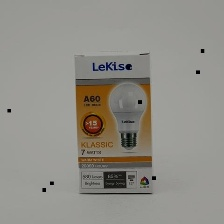carton: (69, 46, 158, 198)
